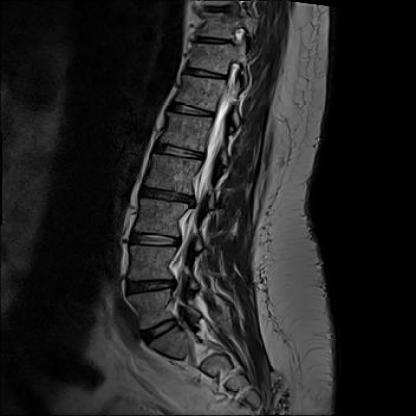Annular Disc Relaxationrotation: (154, 143, 205, 162), (133, 232, 180, 248)
Degenerative Disc Diseaserotation: (137, 186, 198, 207), (128, 276, 179, 298)
Disc Bulgerotation: (137, 186, 199, 207), (128, 276, 179, 298), (143, 321, 180, 338)
